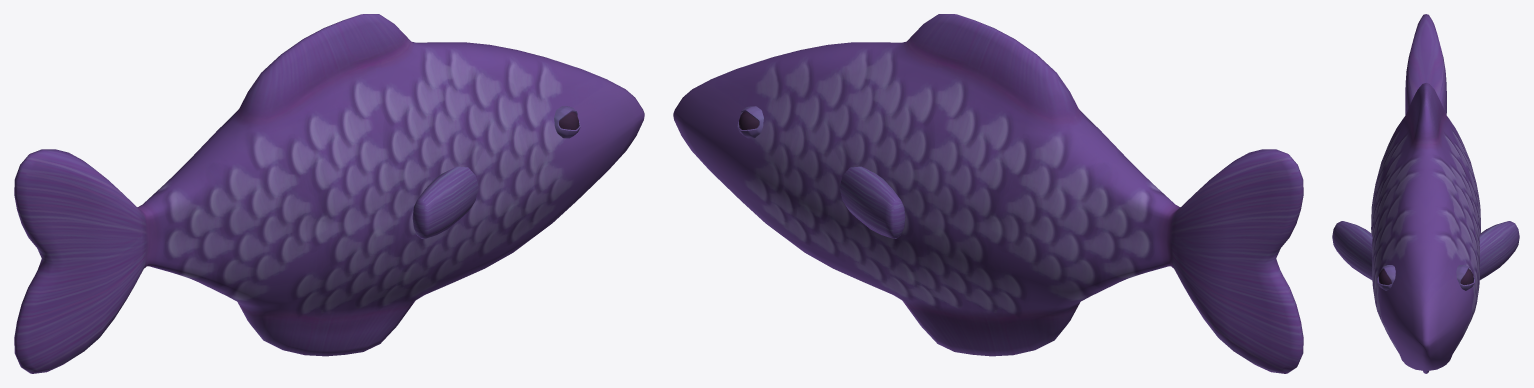
Rendered from Fish_Model_Zone1.fbx.
The picture shows the model from 3 angles, left to right: view 1: azimuth 30°, elevation 25°; view 2: azimuth 150°, elevation 25°; view 3: azimuth 270°, elevation 25°; orthographic projection. The views are drawn at different scales.
Visible parts, largest first — view 1: Sphere004; view 2: Sphere004; view 3: Sphere004.
Part boxes in pixels (left/top/right/bottom): Sphere004: left=14, top=14, right=644, bottom=373; Sphere004: left=673, top=14, right=1303, bottom=373; Sphere004: left=1332, top=14, right=1519, bottom=373.
Size of the model in its own units: 79.69 by 40.88 by 25.38.
